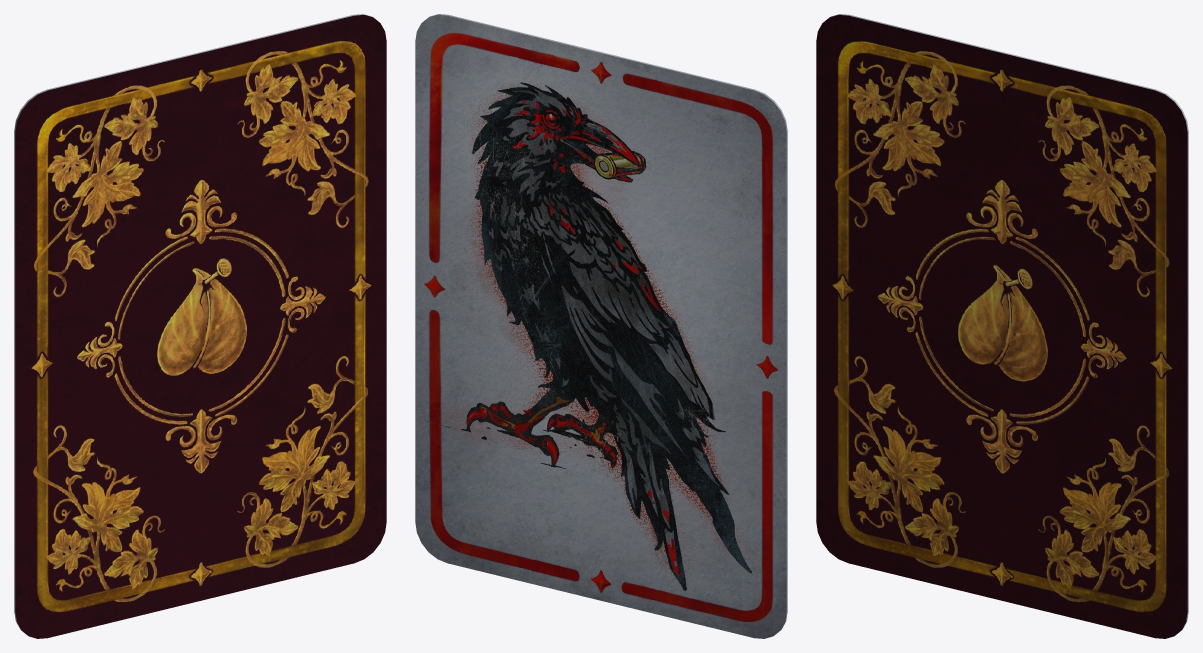
The model's file is card.fbx.
3 renders of one model, left to right at view 1: azimuth 30°, elevation 25°; view 2: azimuth 150°, elevation 25°; view 3: azimuth 330°, elevation 25°, orthographic.
Visible parts, largest first — view 1: card1_source; view 2: card1_source; view 3: card1_source.
Part boxes in pixels (bbox=[...]): card1_source: bbox=[14, 14, 386, 638]; card1_source: bbox=[415, 14, 787, 638]; card1_source: bbox=[816, 14, 1188, 638].
Bounding box in the file's own units: 0.0922 × 0.13 × 0.0005.
2 materials, 2 textured.
